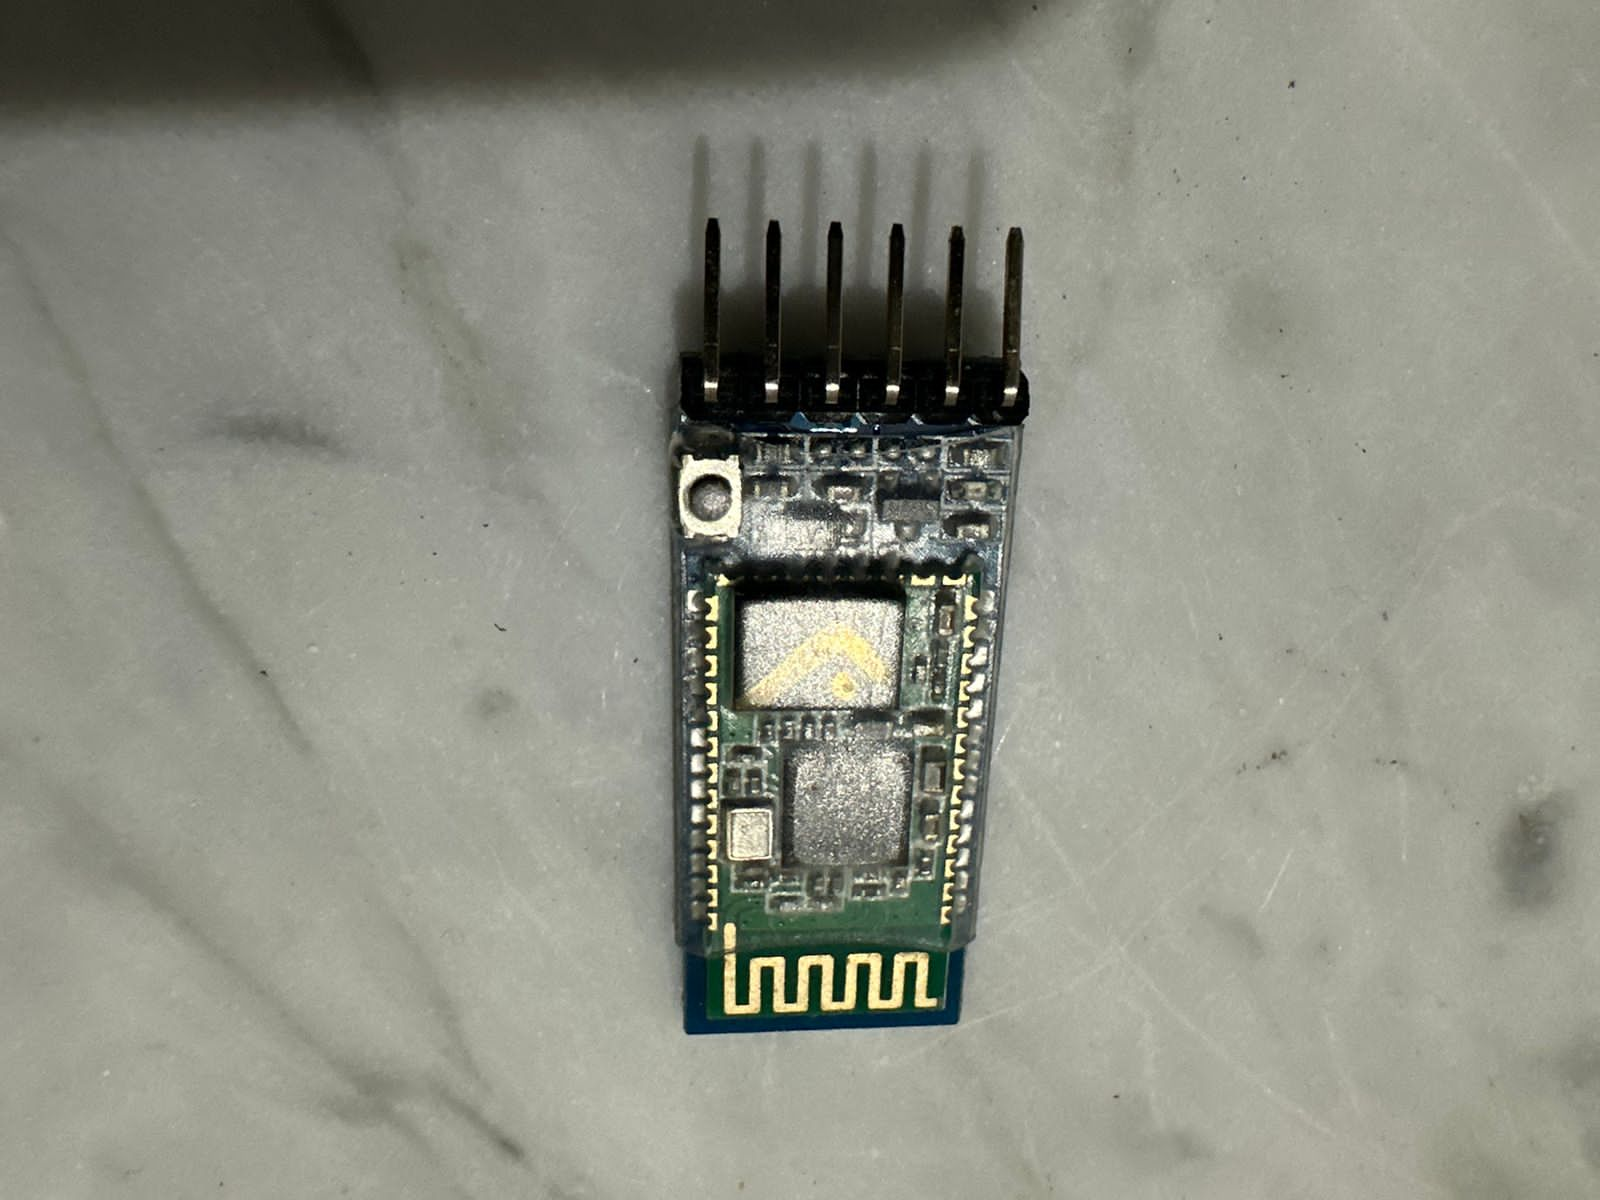module-bluetooth: (659, 205, 1038, 1046)
